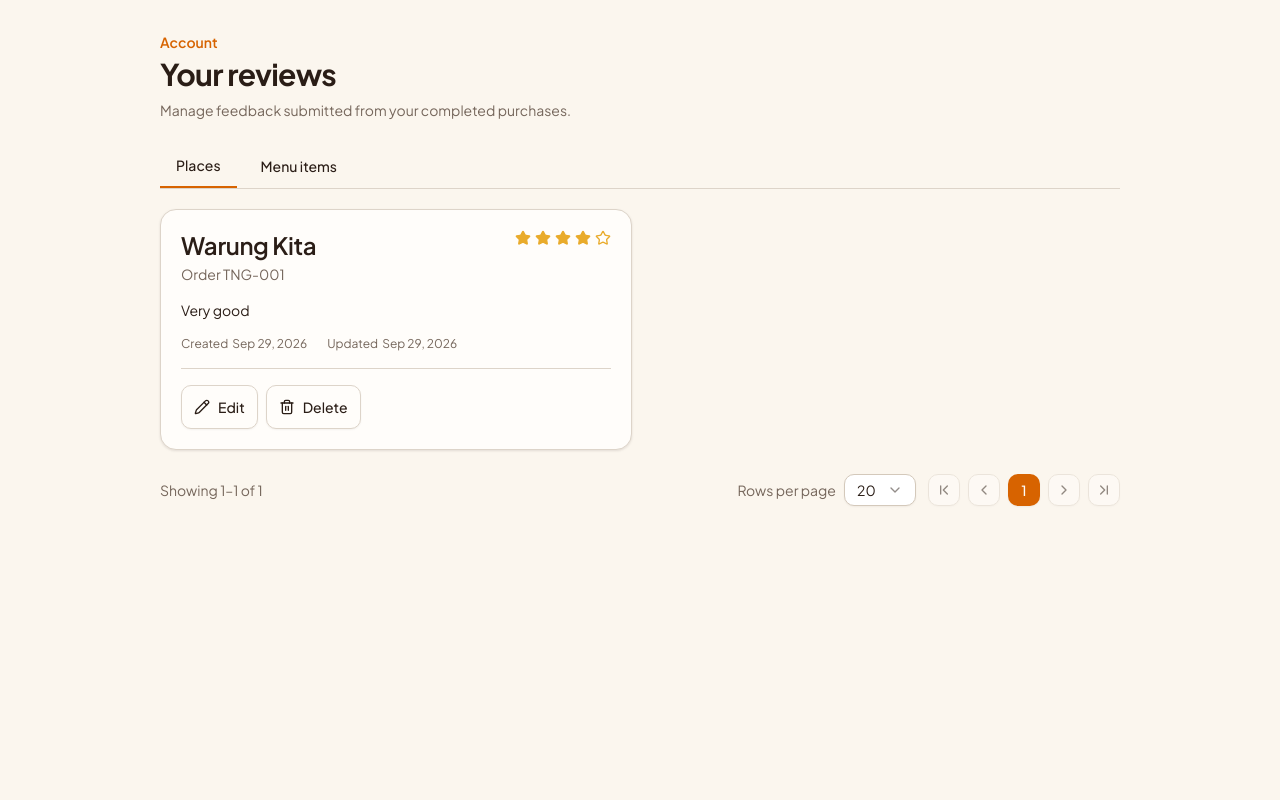
Test case: customer reviews page › deletes through a named confirmation without implying order deletion
The image size is (1280, 800).
Step 1. Click the button "Delete" → (313, 407), box [266,385,360,429]
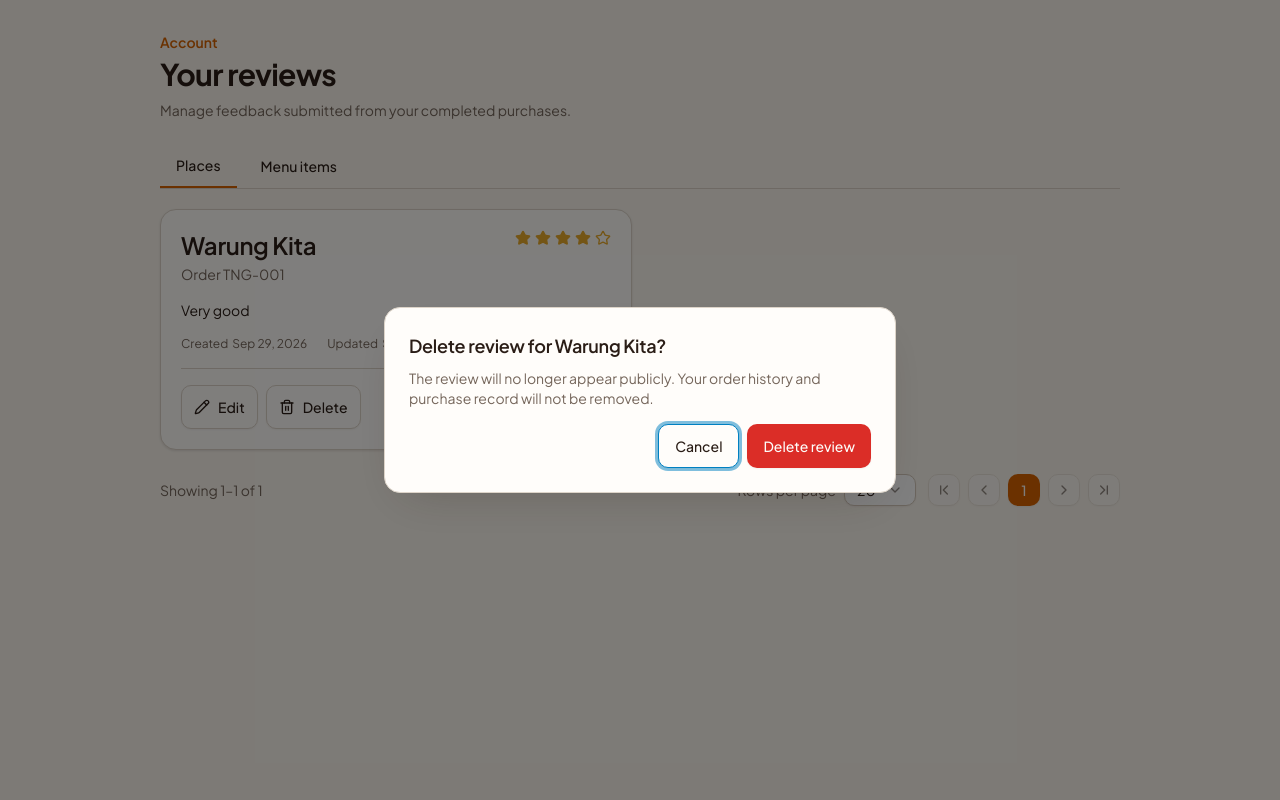
Check: the heading "Delete review for Warung Kita?" is shown, box [409,334,666,357]
Check: the text "order history and purchase record will not be removed" is shown, box [409,369,821,407]
Step 2. Click the button "Delete review" → (809, 446), box [748,424,871,468]
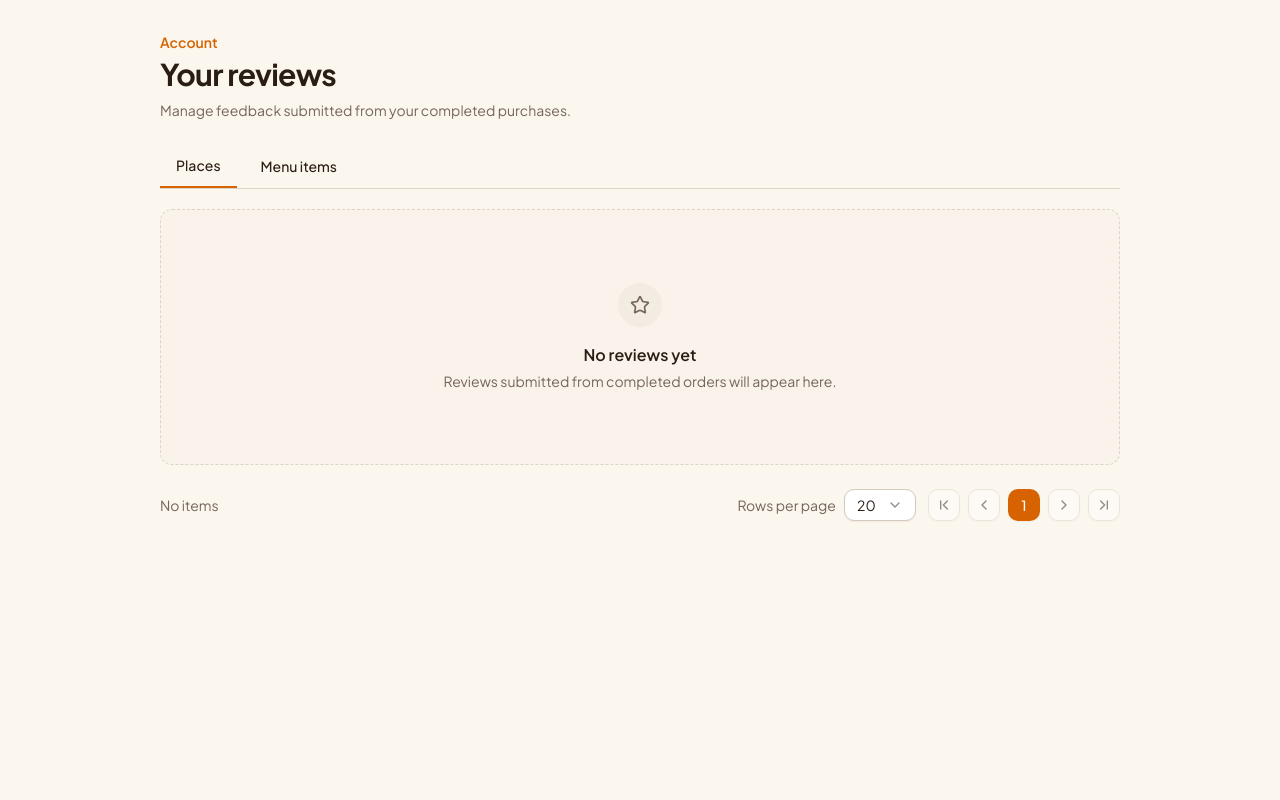
Check: the heading "No reviews yet" is shown, box [584,343,696,367]
